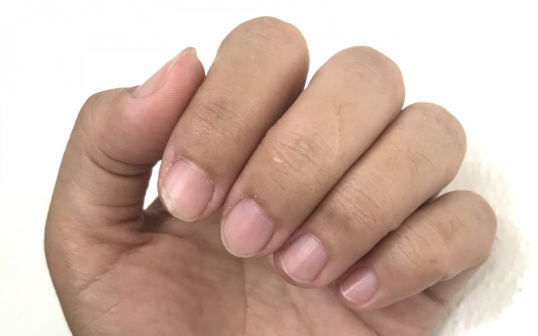finger: (212, 47, 410, 256), (267, 97, 471, 292), (153, 16, 309, 224), (334, 192, 497, 307)
